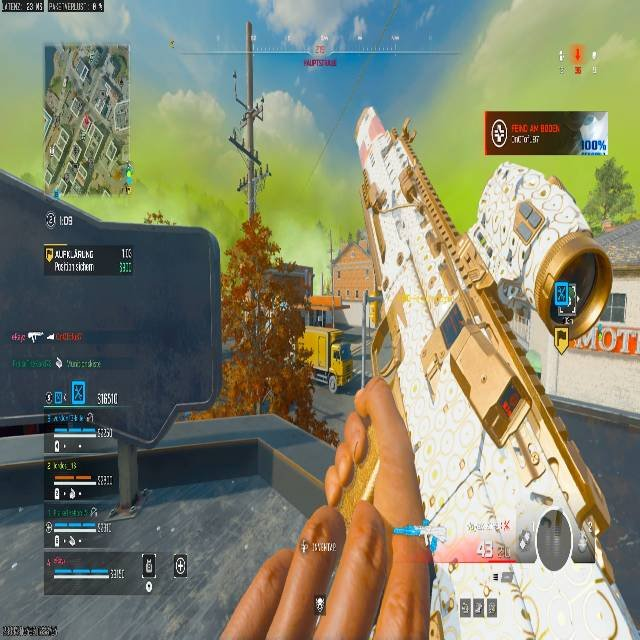player: (279, 342, 337, 448)
